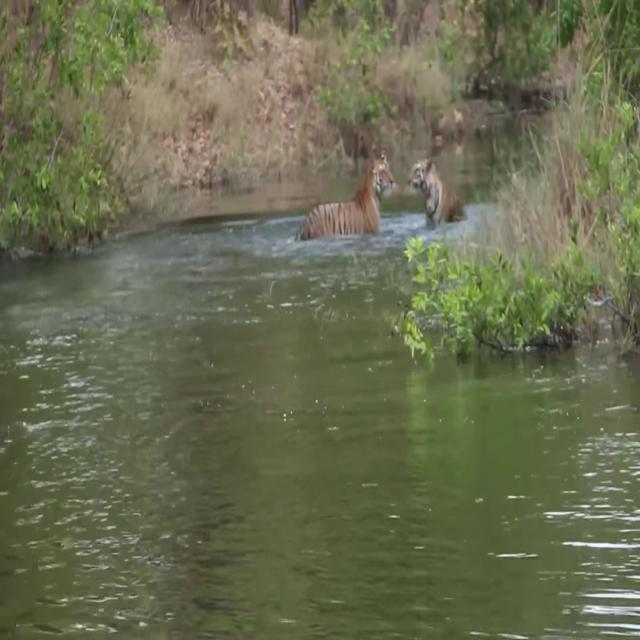tiger: (294, 143, 393, 241), (407, 156, 468, 229)
